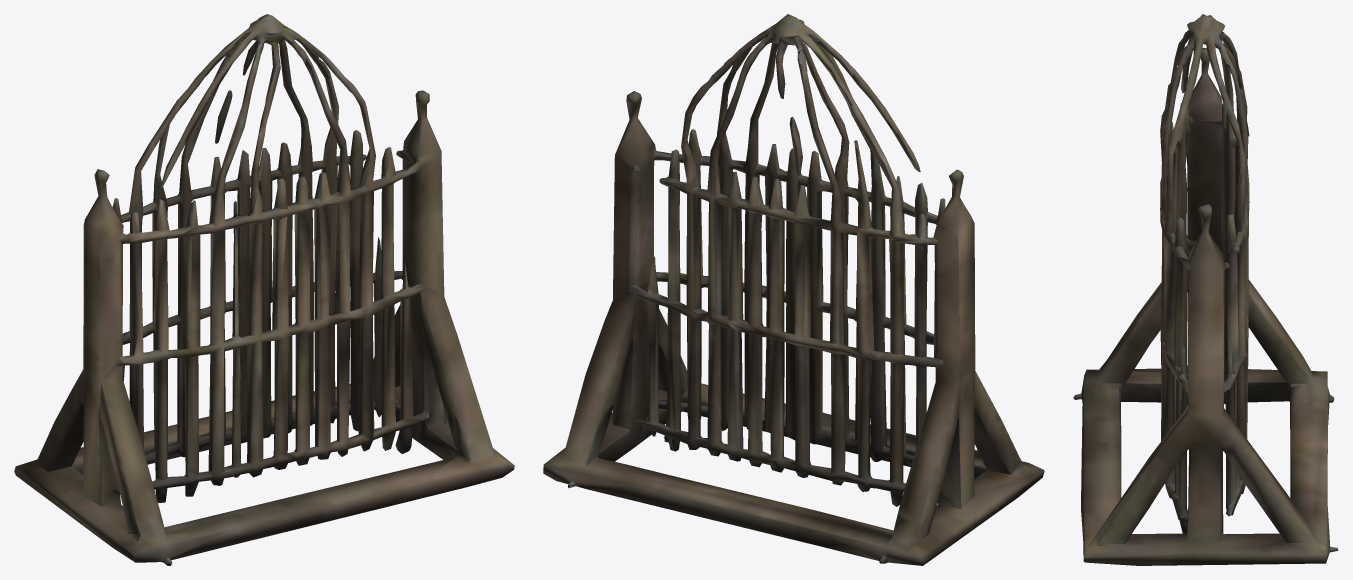
Rendered from simple-wood-portcullis-v001.glb.
The picture shows the model from 3 angles, left to right: view 1: azimuth 30°, elevation 25°; view 2: azimuth 150°, elevation 25°; view 3: azimuth 270°, elevation 25°; orthographic projection.
Parts seen in each view (by area): view 1: simple-wood-portcullis; view 2: simple-wood-portcullis; view 3: simple-wood-portcullis.
Part boxes in pixels (<box>): simple-wood-portcullis: <box>14,14,514,565</box>; simple-wood-portcullis: <box>543,14,1044,565</box>; simple-wood-portcullis: <box>1073,14,1338,565</box>.
Bounding box in the file's own units: 2.03 × 2.38 × 1.23.
1 material, 1 textured.
